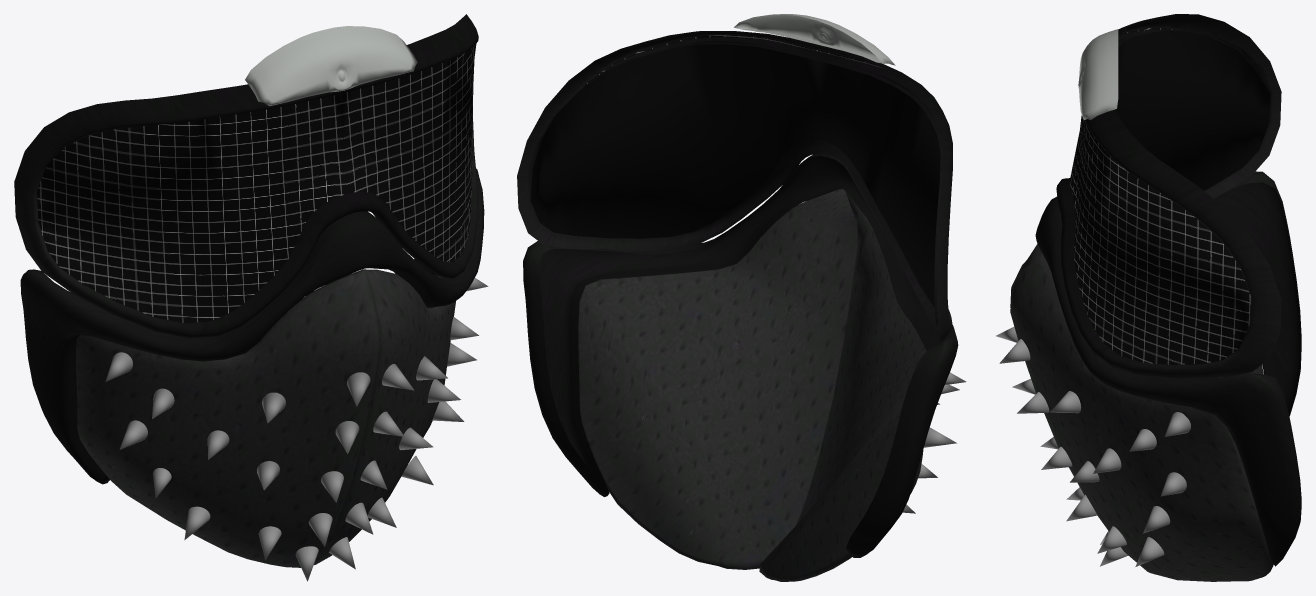
File: WrenchMask_v4.obj
The picture shows the model from 3 angles, left to right: view 1: azimuth 30°, elevation 25°; view 2: azimuth 150°, elevation 25°; view 3: azimuth 270°, elevation 25°; orthographic projection. The views are drawn at different scales.
Parts seen in each view (by area): view 1: wrenchmaskf_wrenchmask_ref, wrenchmaskf_grid; view 2: wrenchmaskf_wrenchmask_ref, wrenchmaskf_grid; view 3: wrenchmaskf_wrenchmask_ref, wrenchmaskf_grid.
Boxes of the visible parts, left/top/right/bottom form: wrenchmaskf_wrenchmask_ref: left=14, top=14, right=488, bottom=581; wrenchmaskf_grid: left=37, top=45, right=474, bottom=323; wrenchmaskf_wrenchmask_ref: left=517, top=14, right=966, bottom=581; wrenchmaskf_grid: left=583, top=35, right=889, bottom=87; wrenchmaskf_wrenchmask_ref: left=996, top=14, right=1301, bottom=581; wrenchmaskf_grid: left=1069, top=28, right=1250, bottom=364.
Size of the model in its own units: 7.32 by 8.68 by 4.55.
